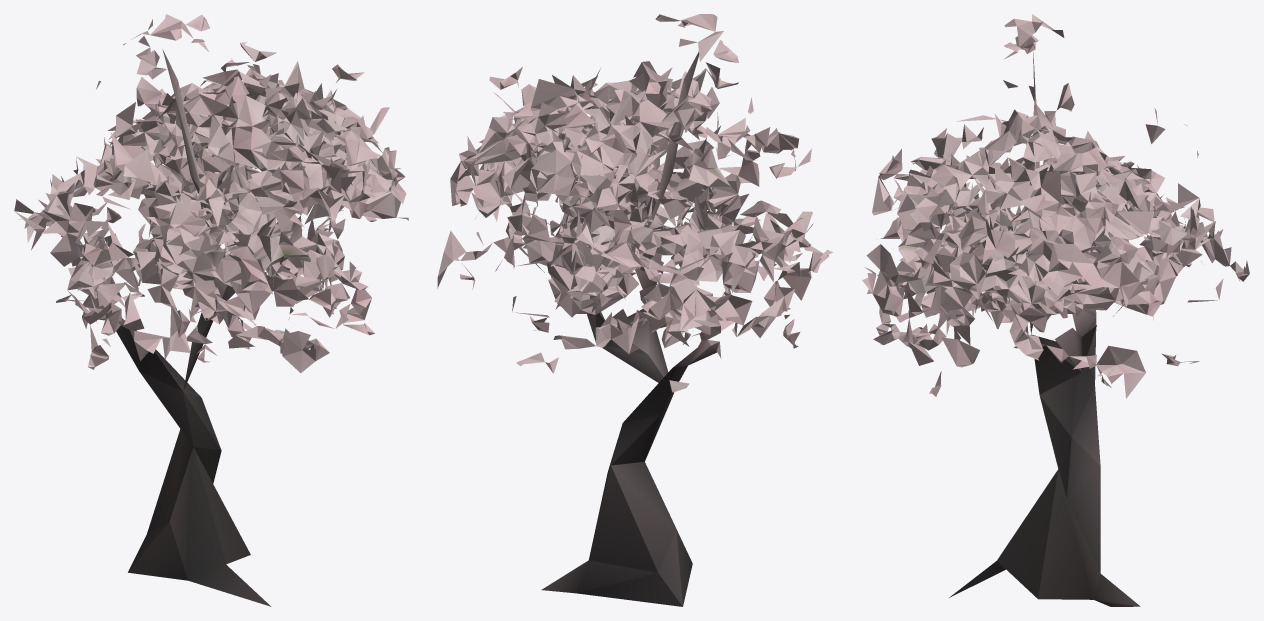
The model's file is lib_blossom.vch.glb.
The picture shows the model from 3 angles, left to right: view 1: azimuth 30°, elevation 25°; view 2: azimuth 150°, elevation 25°; view 3: azimuth 270°, elevation 25°; orthographic projection. The views are drawn at different scales.
Visible parts, largest first — view 1: lib_blossom; view 2: lib_blossom; view 3: lib_blossom.
Part boxes in pixels (<box>): lib_blossom: <box>14,14,408,606</box>; lib_blossom: <box>437,14,832,606</box>; lib_blossom: <box>862,14,1249,606</box>.
Size of the model in its own units: 1.2 by 1.98 by 1.27.
